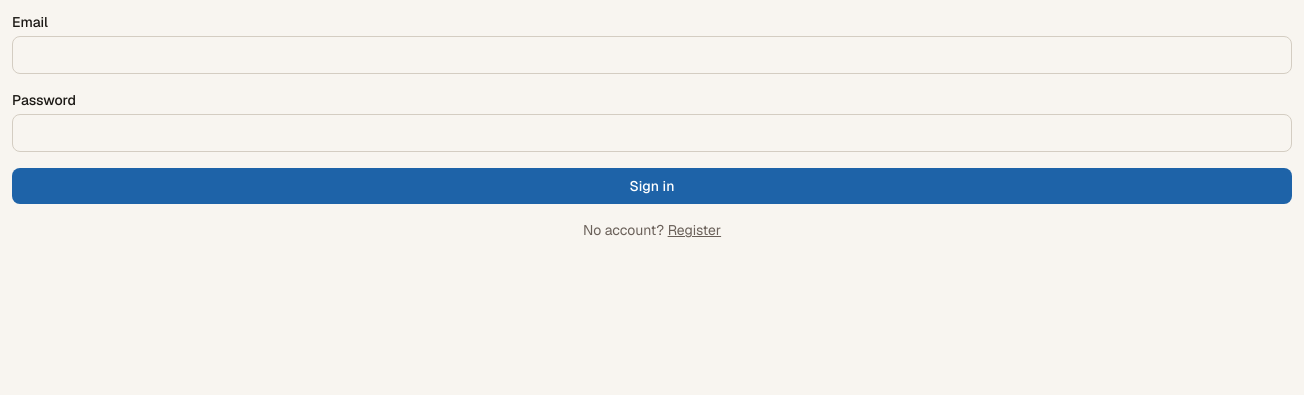
Test case: LoginForm — verification flow › shows resend button when login fails with LOGIN_USER_NOT_VERIFIED
This screenshot has width=1304, height=395.
In the field labelled "Email": {"x": 652, "y": 55} x1=12 y1=36 x2=1292 y2=74, type "alice@example.com"
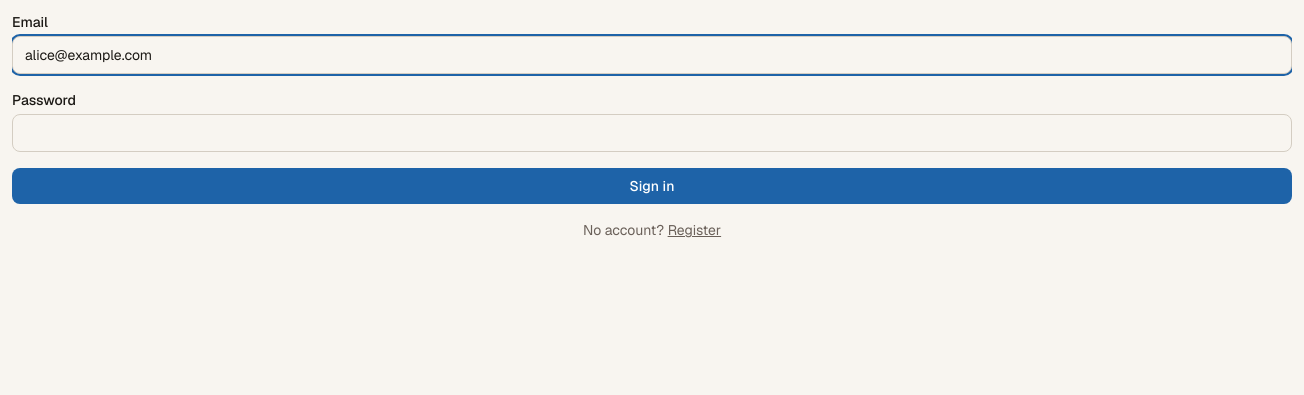
In the password field labelled "Password": {"x": 652, "y": 133} x1=12 y1=114 x2=1292 y2=152, type "hunter2!!"
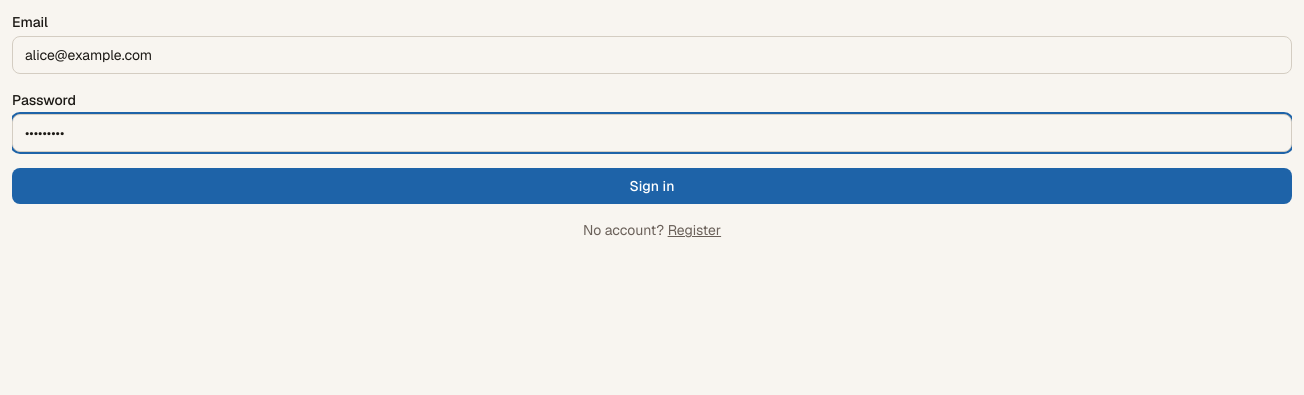
Click the button "Sign in": {"x": 652, "y": 186} x1=12 y1=168 x2=1292 y2=204
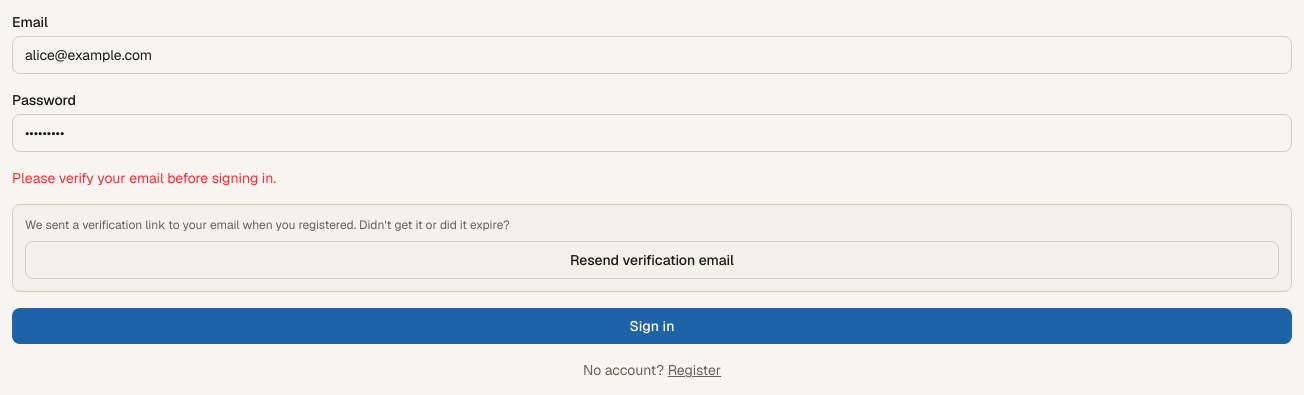
Result: the text "Please verify your email before signing in." is shown at x1=12 y1=169 x2=276 y2=187
Result: the button "Resend verification email" is shown at x1=25 y1=241 x2=1279 y2=279
